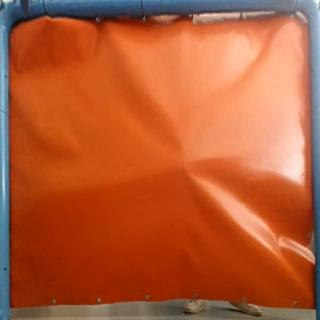Hit-hRxx: (178, 158, 191, 175)
